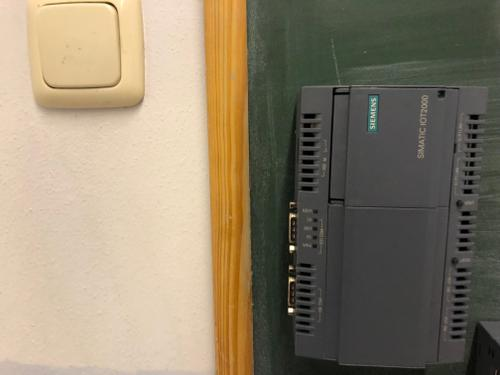device: (287, 85, 487, 369)
